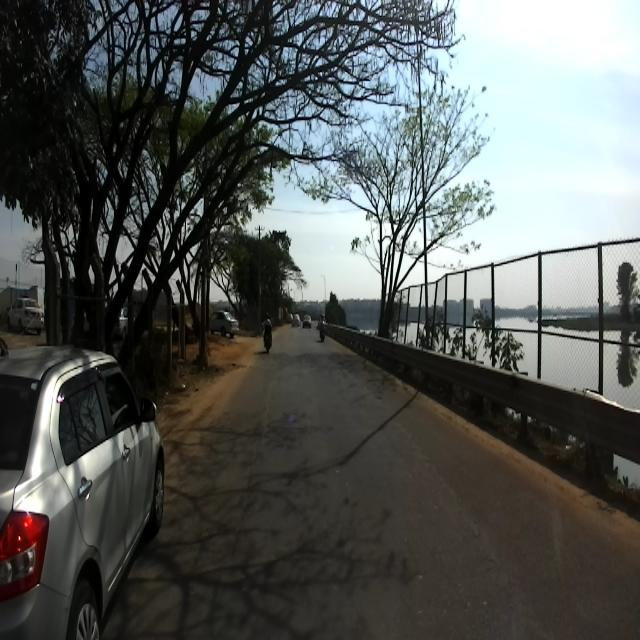Car_Maruti-Suzuki: (0, 337, 164, 639), (7, 296, 43, 334), (207, 308, 239, 338)
